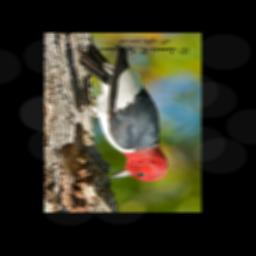Woodpecker: (73, 42, 167, 183)
